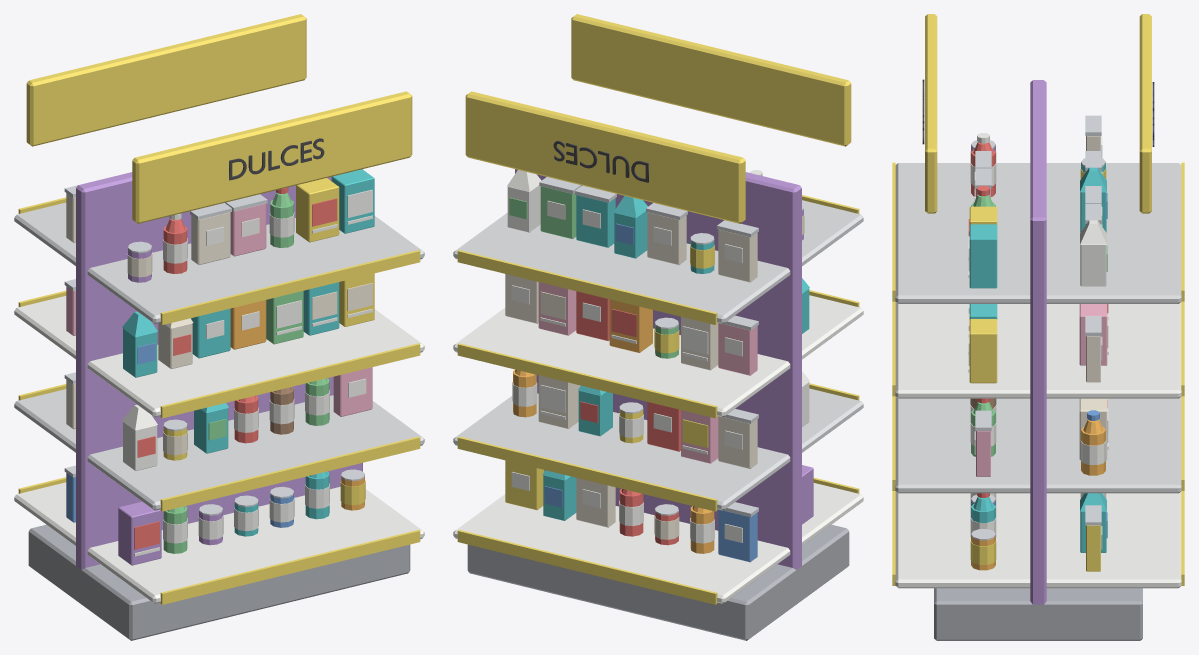
The model's file is Gondola_Dulces.fbx.
The picture shows the model from 3 angles, left to right: view 1: azimuth 30°, elevation 25°; view 2: azimuth 150°, elevation 25°; view 3: azimuth 270°, elevation 25°; orthographic projection.
Visible parts, largest first — view 1: Gondola_Dulces | Columna central, Gondola_Dulces | Panel letrero, Gondola_Dulces | Panel letrero.001, Gondola_Dulces | Zocalo, Gondola_Dulces | Bandeja 1.001, Gondola_Dulces | Bandeja 2.001, Gondola_Dulces | Bandeja 4.001, Gondola_Dulces | Bandeja 3.001, Gondola_Dulces | Cantina precio.006, Gondola_Dulces | Cantina precio.004, Gondola_Dulces | Cantina precio.005, Gondola_Dulces | Cantina precio.007 (+32 smaller); view 2: Gondola_Dulces | Panel letrero.001, Gondola_Dulces | Columna central, Gondola_Dulces | Panel letrero, Gondola_Dulces | Zocalo, Gondola_Dulces | Bandeja 1, Gondola_Dulces | Bandeja 4, Gondola_Dulces | Bandeja 2, Gondola_Dulces | Bandeja 3, Gondola_Dulces | Cantina precio.002, Gondola_Dulces | Cantina precio, Gondola_Dulces | Cantina precio.001, Gondola_Dulces | Cantina precio.003 (+34 smaller); view 3: Gondola_Dulces | Bandeja 4, Gondola_Dulces | Bandeja 1, Gondola_Dulces | Bandeja 3, Gondola_Dulces | Bandeja 2, Gondola_Dulces | Bandeja 4.001, Gondola_Dulces | Zocalo, Gondola_Dulces | Bandeja 2.001, Gondola_Dulces | Bandeja 1.001, Gondola_Dulces | Columna central, Gondola_Dulces | Bandeja 3.001, Gondola_Dulces | Panel letrero, Gondola_Dulces | Panel letrero.001 (+19 smaller).
Part boxes in pixels (x1,y1,x2,y2): Gondola_Dulces | Columna central: (76, 169, 362, 569); Gondola_Dulces | Panel letrero: (26, 14, 306, 146); Gondola_Dulces | Panel letrero.001: (132, 91, 412, 223); Gondola_Dulces | Zocalo: (28, 524, 410, 640); Gondola_Dulces | Bandeja 1.001: (68, 490, 424, 603); Gondola_Dulces | Bandeja 2.001: (68, 401, 424, 510); Gondola_Dulces | Bandeja 4.001: (68, 216, 424, 323); Gondola_Dulces | Bandeja 3.001: (68, 309, 424, 417); Gondola_Dulces | Cantina precio.006: (160, 343, 420, 418); Gondola_Dulces | Cantina precio.004: (160, 530, 420, 604); Gondola_Dulces | Cantina precio.005: (160, 436, 420, 511); Gondola_Dulces | Cantina precio.007: (160, 250, 420, 324); Gondola_Dulces | Panel letrero.001: (571, 14, 851, 146); Gondola_Dulces | Columna central: (515, 169, 801, 569); Gondola_Dulces | Panel letrero: (465, 91, 745, 223); Gondola_Dulces | Zocalo: (467, 524, 849, 640); Gondola_Dulces | Bandeja 1: (453, 494, 809, 603); Gondola_Dulces | Bandeja 4: (453, 212, 809, 323); Gondola_Dulces | Bandeja 2: (453, 393, 809, 510); Gondola_Dulces | Bandeja 3: (453, 308, 809, 417); Gondola_Dulces | Cantina precio.002: (457, 343, 717, 418); Gondola_Dulces | Cantina precio: (457, 530, 717, 604); Gondola_Dulces | Cantina precio.001: (457, 436, 717, 511); Gondola_Dulces | Cantina precio.003: (457, 250, 717, 324); Gondola_Dulces | Bandeja 4: (1008, 163, 1181, 303); Gondola_Dulces | Bandeja 1: (1008, 491, 1181, 588); Gondola_Dulces | Bandeja 3: (1008, 302, 1181, 398); Gondola_Dulces | Bandeja 2: (1008, 397, 1181, 493); Gondola_Dulces | Bandeja 4.001: (895, 163, 1068, 303); Gondola_Dulces | Zocalo: (934, 588, 1142, 640); Gondola_Dulces | Bandeja 2.001: (895, 397, 1068, 493); Gondola_Dulces | Bandeja 1.001: (895, 491, 1008, 588); Gondola_Dulces | Columna central: (1030, 80, 1046, 604); Gondola_Dulces | Bandeja 3.001: (895, 302, 1068, 398); Gondola_Dulces | Panel letrero: (1139, 14, 1151, 213); Gondola_Dulces | Panel letrero.001: (925, 14, 937, 213).
Bounding box in the file's own units: 1.2 × 1.97 × 1.06.
